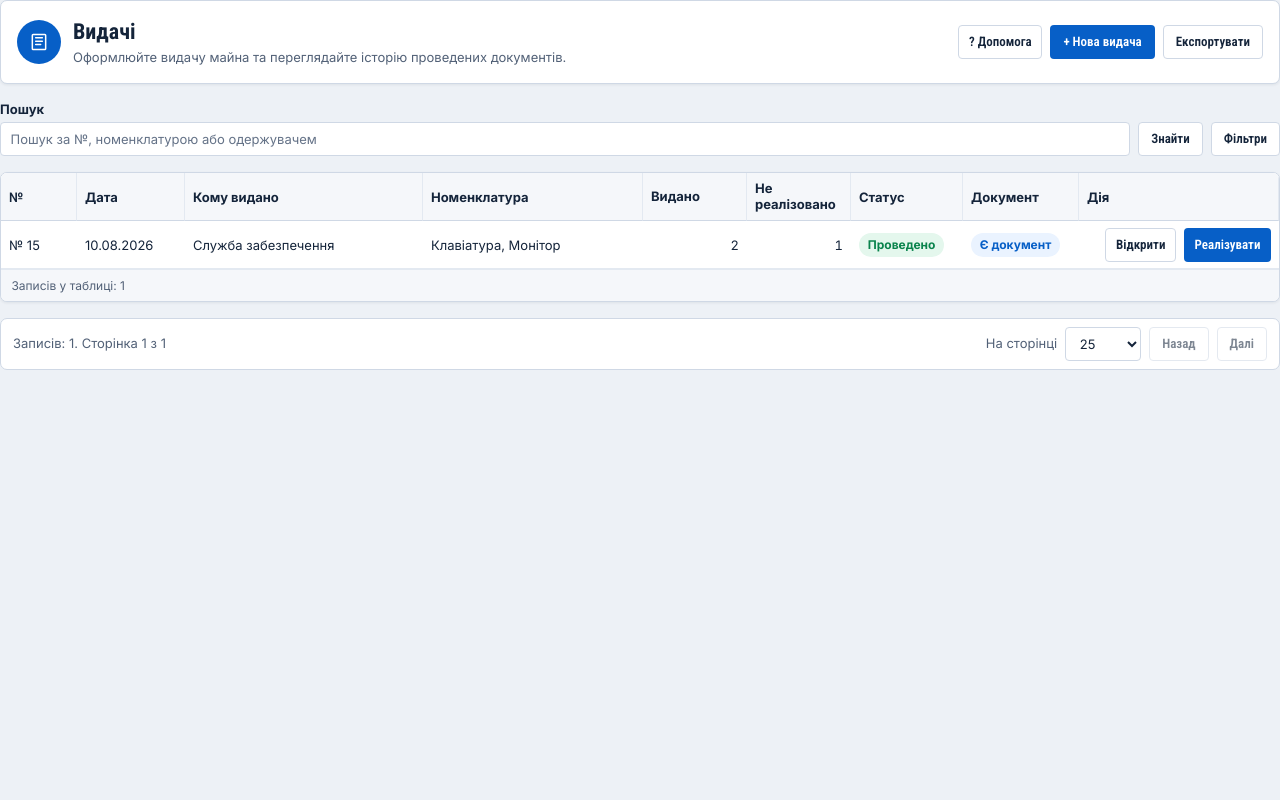
Test case: MVO issues workspace › creates a partial realization without refreshing StockBalance
This screenshot has width=1280, height=800.
Expected: the text "№ 15" is shown, [1, 222, 77, 270]
Click the button "Реалізувати".
click(1228, 245)  # box [1184, 228, 1271, 262]
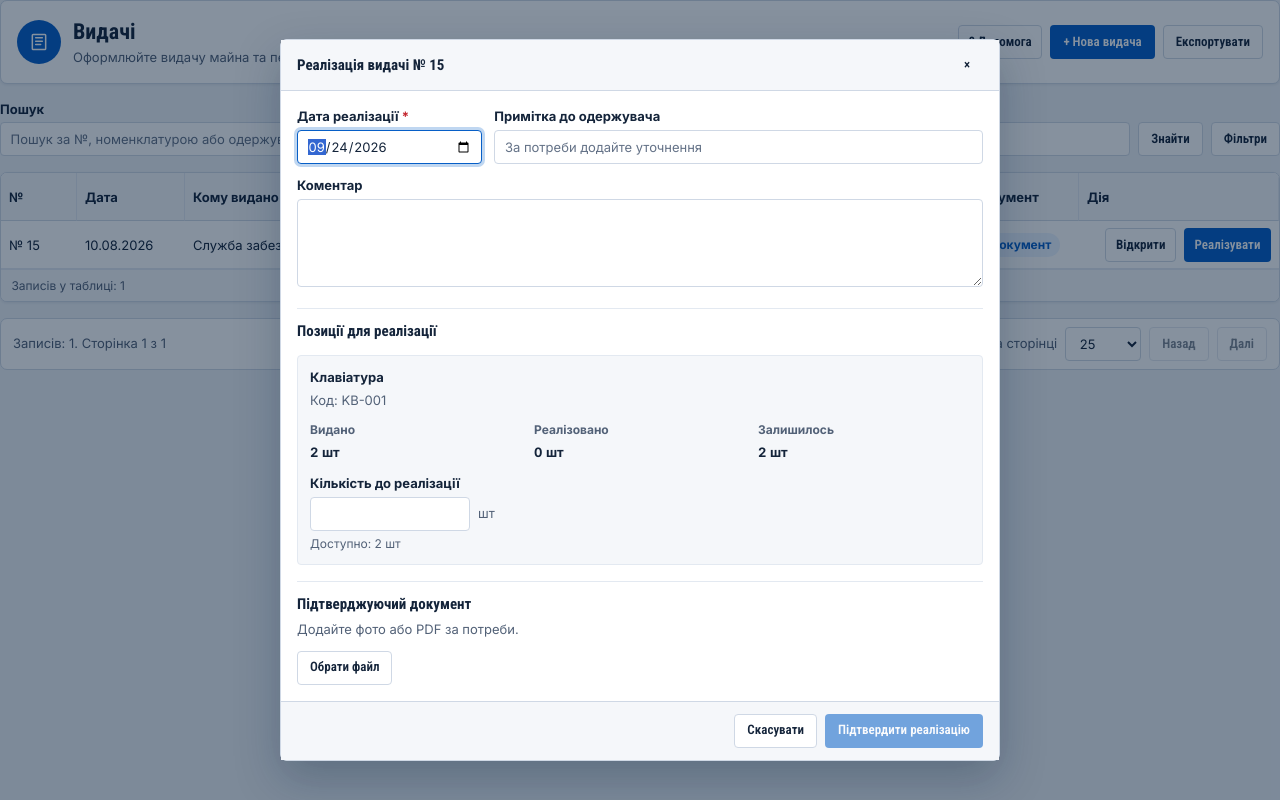
Expected: the heading "Реалізація видачі № 15" is shown, [297, 55, 444, 76]
Type "1" into the number field labelled "Кількість до реалізації".
click(390, 514); type("1")  # box [310, 496, 470, 530]
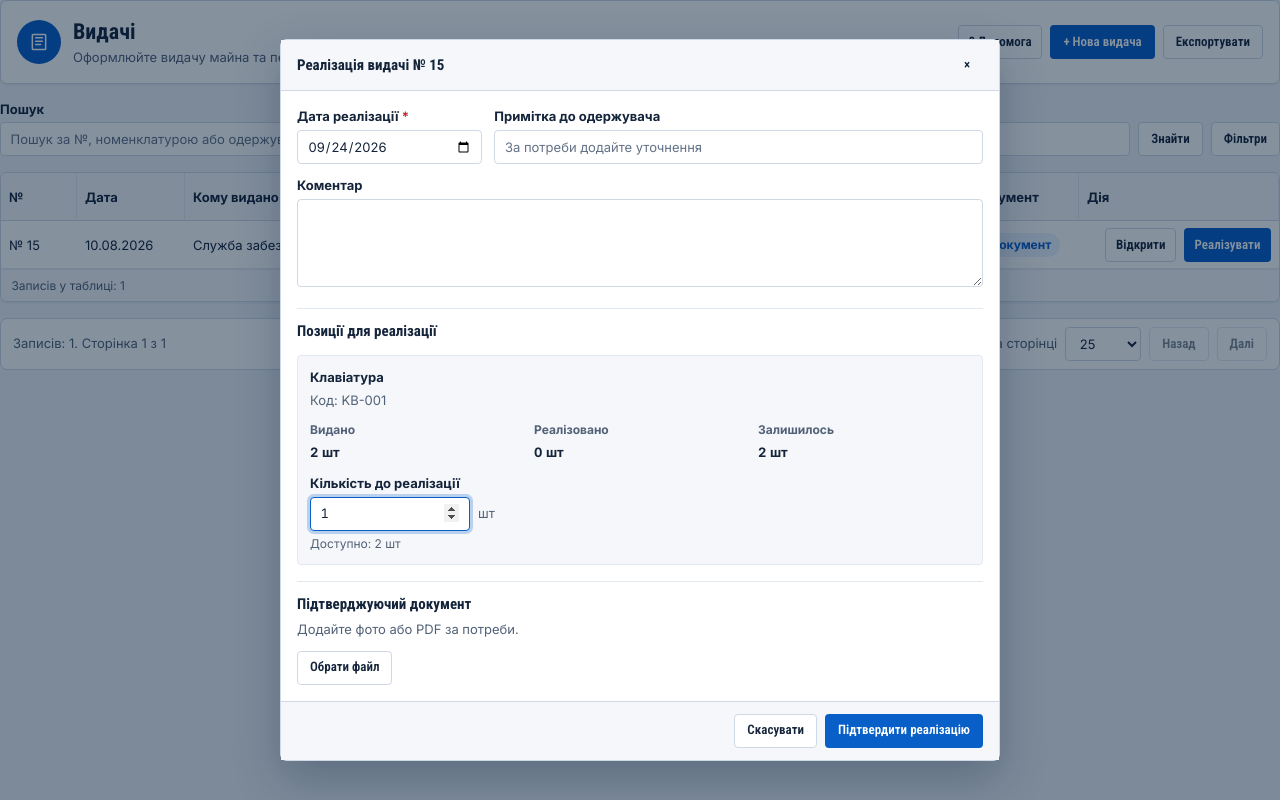
Click the button "Підтвердити реалізацію".
click(904, 730)  # box [825, 714, 983, 748]
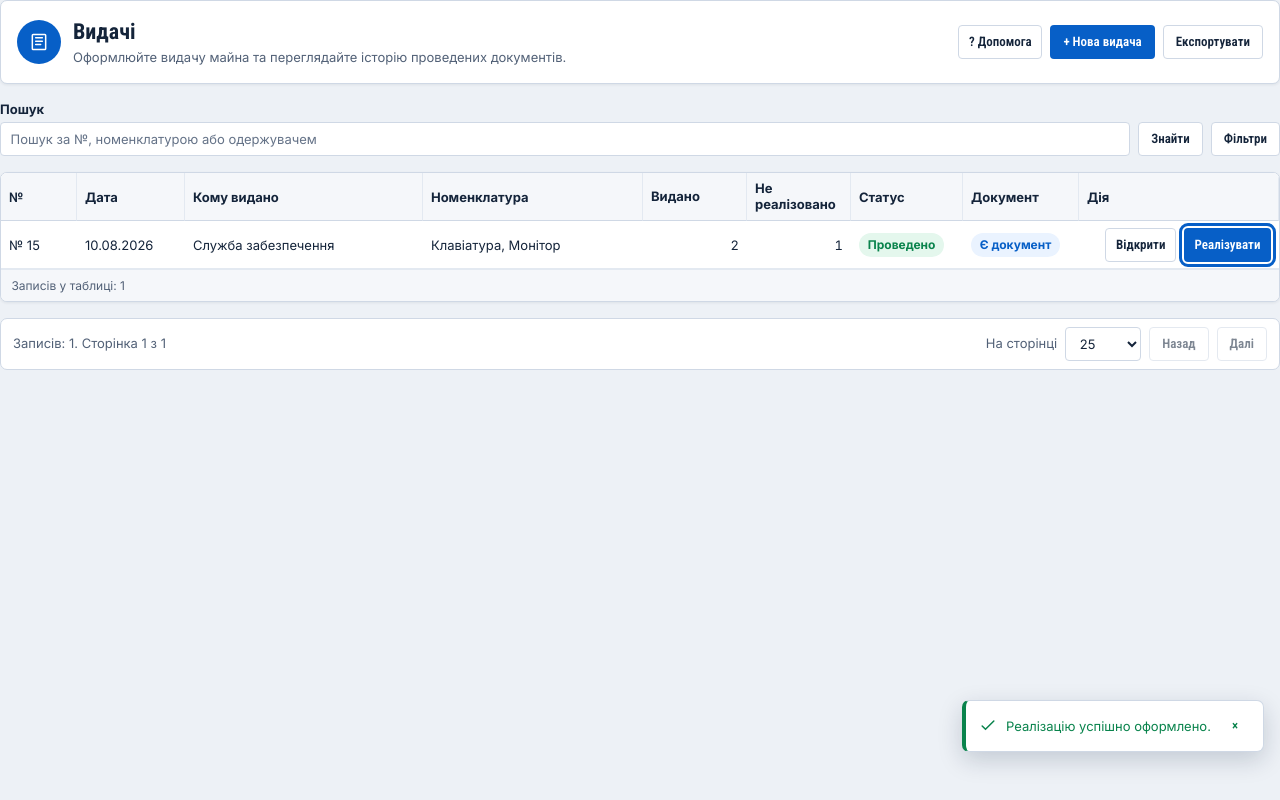
Expected: the text "Реалізацію успішно оформлено." is shown, [1006, 717, 1211, 735]
Expected: the heading "Реалізація видачі № 15" is gone
